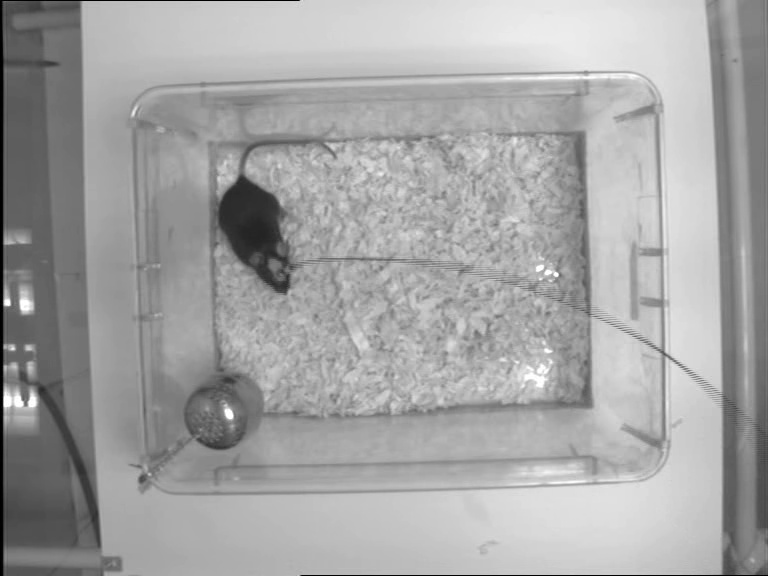mice: (220, 137, 341, 293)
